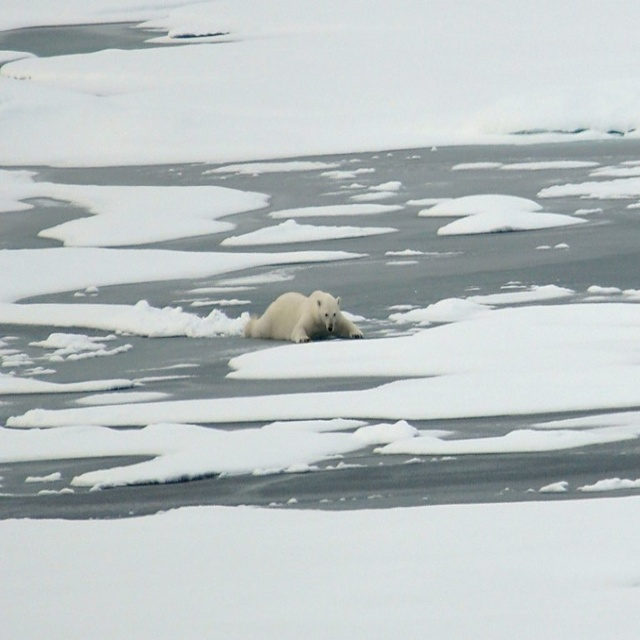Polar bear: (244, 288, 362, 341)
